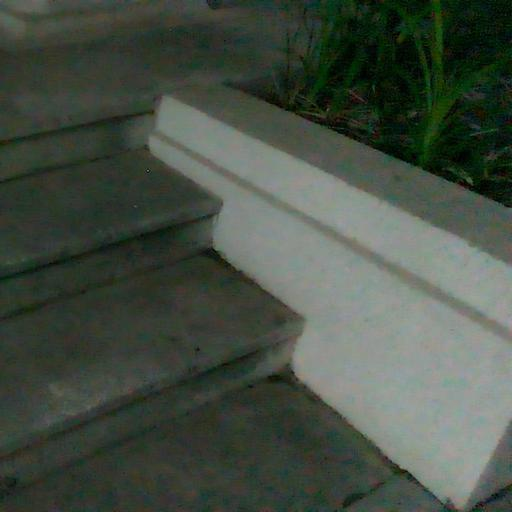Stairs: (0, 111, 448, 512)
